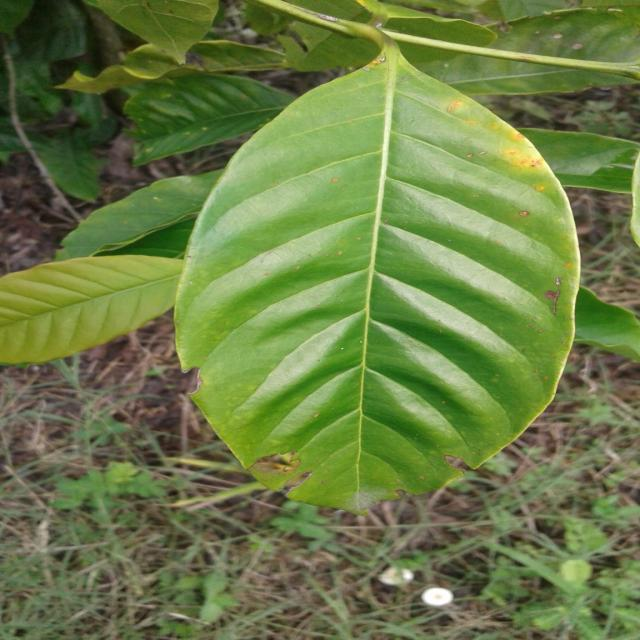Enfermedad-Roya: (174, 54, 583, 514)
